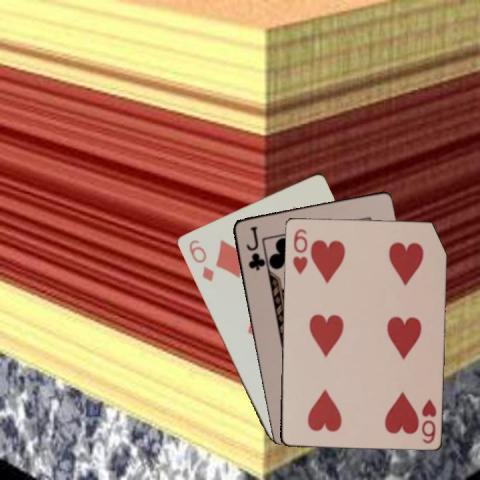6d: (185, 237, 215, 283)
6h: (289, 226, 309, 276), (418, 396, 438, 445)
Jc: (242, 223, 264, 272)
